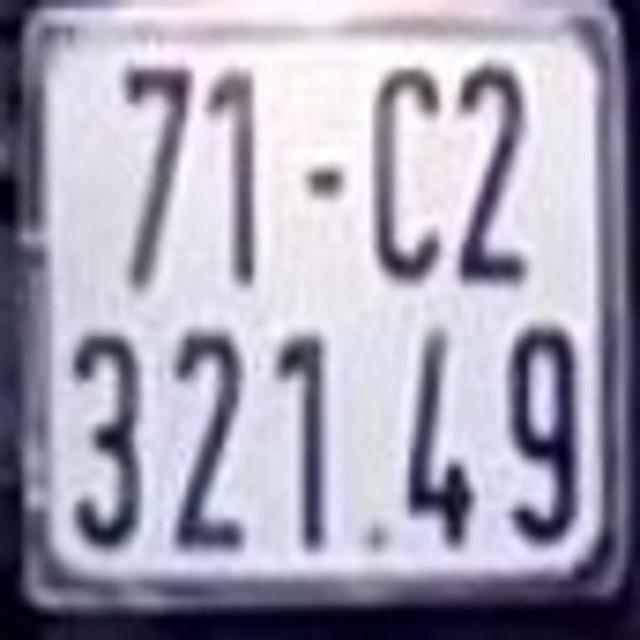1: (272, 328, 331, 544), (210, 66, 266, 288)
2: (173, 326, 254, 550), (464, 52, 538, 282)
3: (66, 330, 146, 553)
4: (405, 316, 472, 544)
7: (125, 55, 196, 292)
9: (508, 313, 581, 546)
C: (370, 68, 442, 282)
